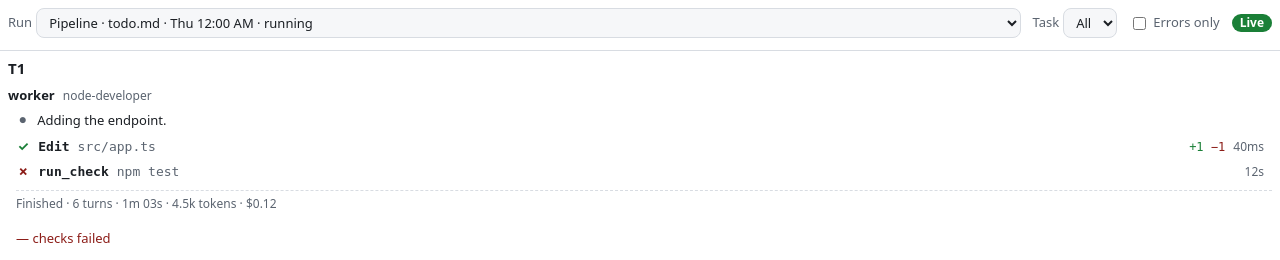
Scenario: TraceView › filters to errors only
The width and height of the screenshot is (1280, 260).
Click the checkbox labelled "Errors only" at (1140, 23), box [1133,16,1146,30]
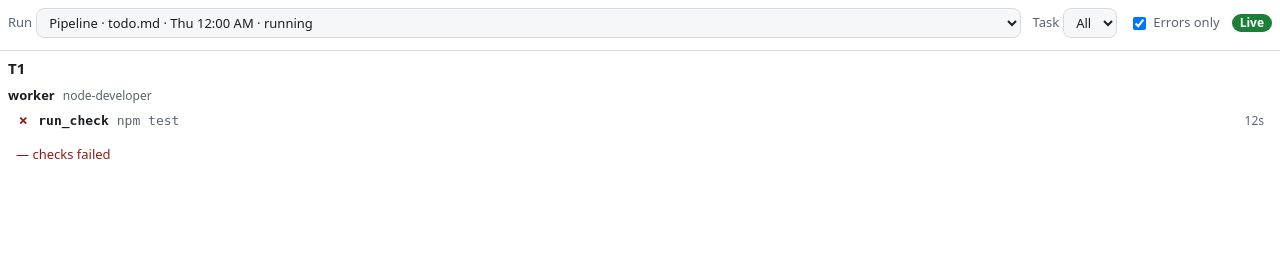
Expected: the button "✗ run_check npm test 12s" is shown, [8,109,1272,133]
Expected: the text "Adding the endpoint." is gone
Expected: the button "Edit src" is gone
